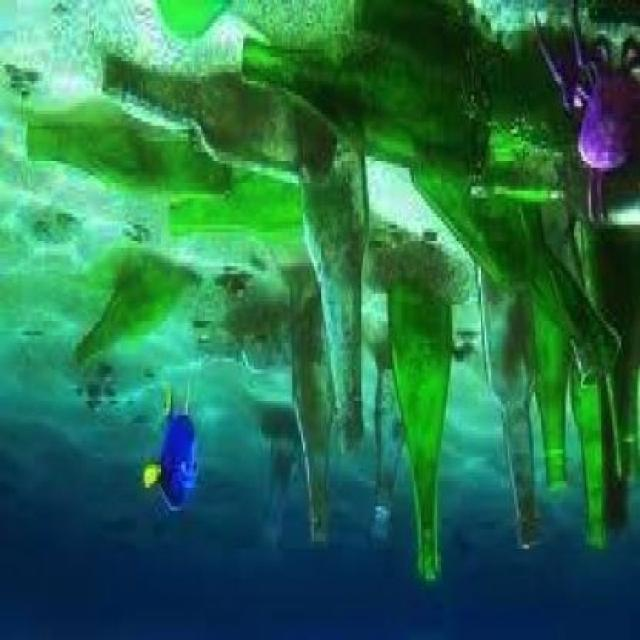gbottle: (241, 31, 488, 183), (102, 54, 333, 178), (297, 80, 369, 457), (389, 274, 456, 583), (25, 110, 230, 195), (74, 255, 198, 370)
